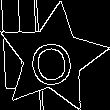O_N: (27, 29, 78, 87)
